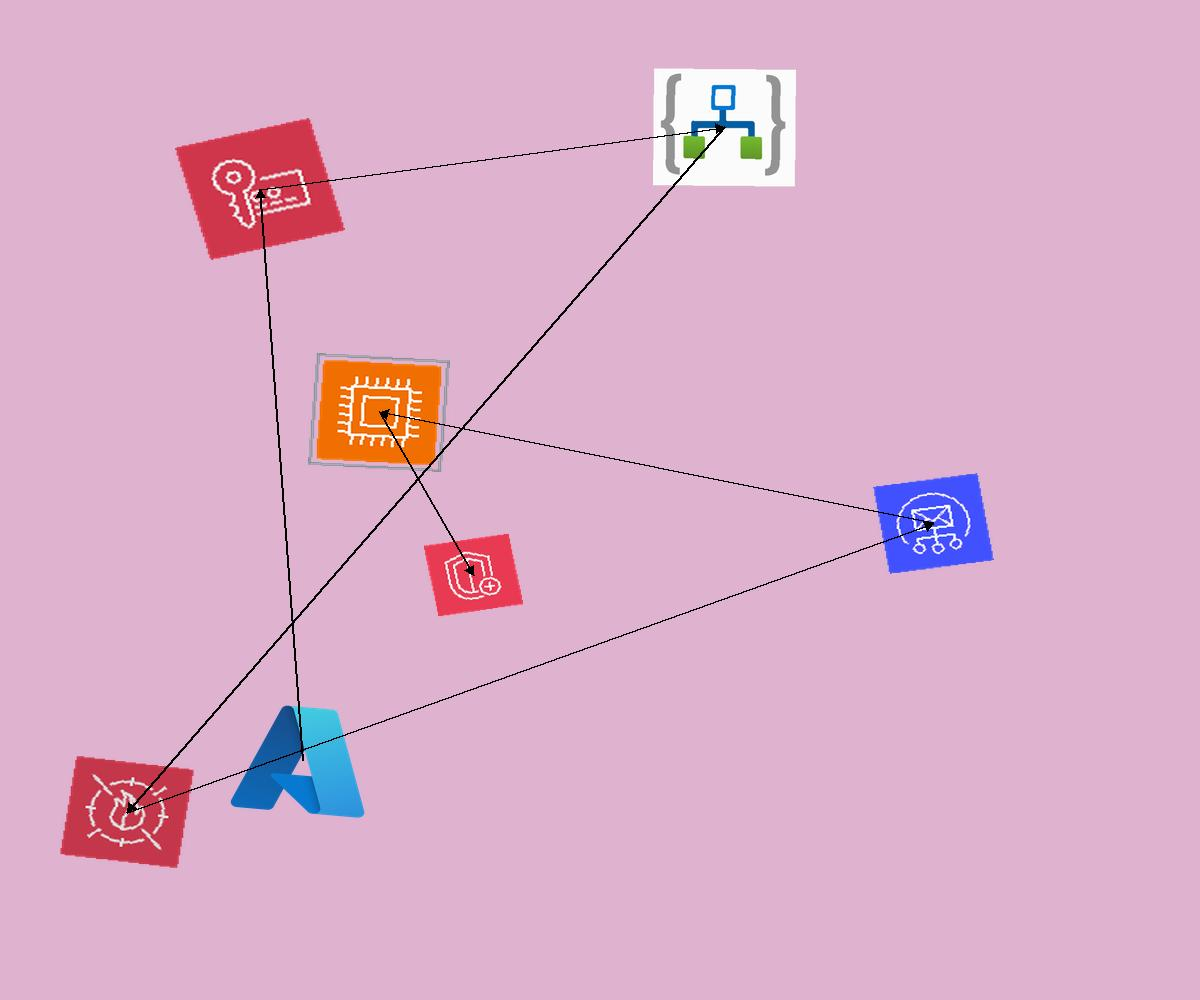AWS-Category_Compute: (308, 353, 450, 472)
AWS-Key-Management-Service: (175, 118, 345, 260)
AWS-Shield: (423, 533, 524, 617)
AWS-Simple-Email-Service: (873, 473, 994, 574)
AWS-WAF: (59, 755, 195, 869)
Azure_integration-204-Logic-Apps: (653, 68, 796, 187)
Azure_services: (223, 693, 384, 827)
